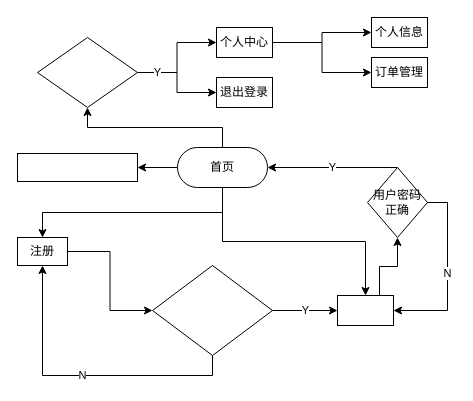
This 473x401 diagram has some shape labels left out. Each missing label, with the box of its shape:
信息浏览，机型选择: (16, 152, 138, 182)
手机号与密码符合规则且手机号未占用: (152, 264, 272, 356)
用户已登录: (36, 36, 138, 108)
登录: (336, 294, 394, 326)
